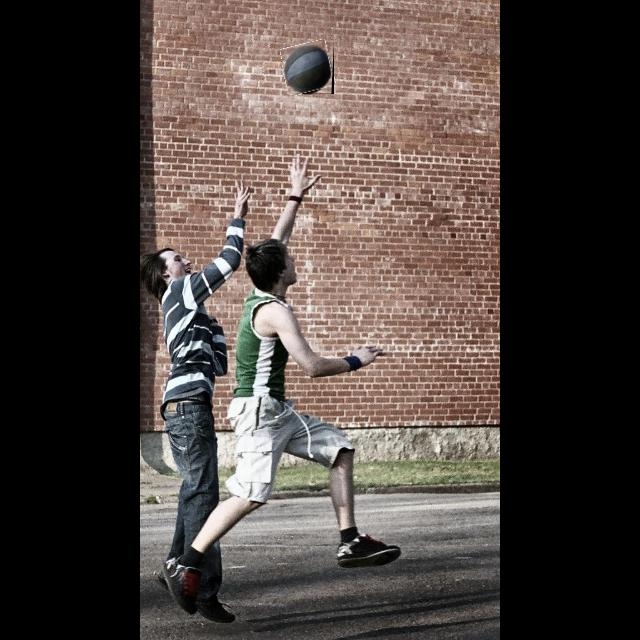Football: (282, 42, 334, 94)
